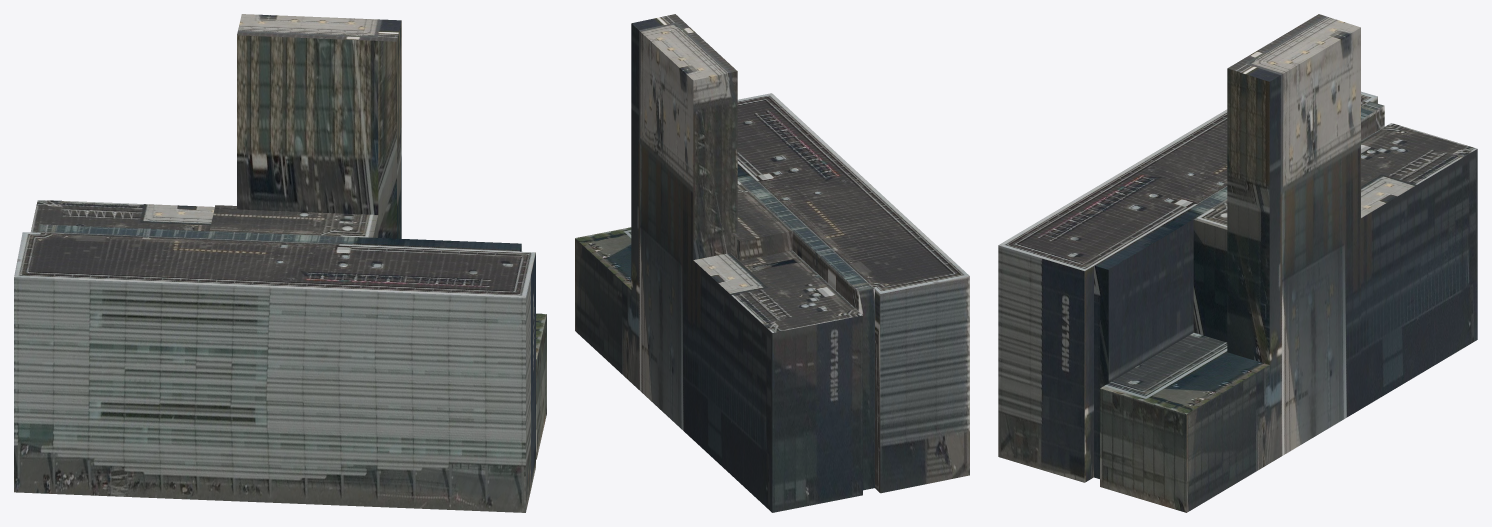
The picture shows the model from 3 angles, left to right: view 1: azimuth 30°, elevation 25°; view 2: azimuth 150°, elevation 25°; view 3: azimuth 270°, elevation 25°; orthographic projection. The views are drawn at different scales.
Visible parts, largest first — view 1: Z_UP; view 2: Z_UP; view 3: Z_UP.
Boxes of the visible parts, x1,y1,x2,y2 form: Z_UP: [14, 14, 546, 512]; Z_UP: [575, 14, 969, 512]; Z_UP: [998, 14, 1477, 512].
Bounding box in the file's own units: 82.66 × 64.07 × 72.81.
Materials: 16 (15 with a texture image).
